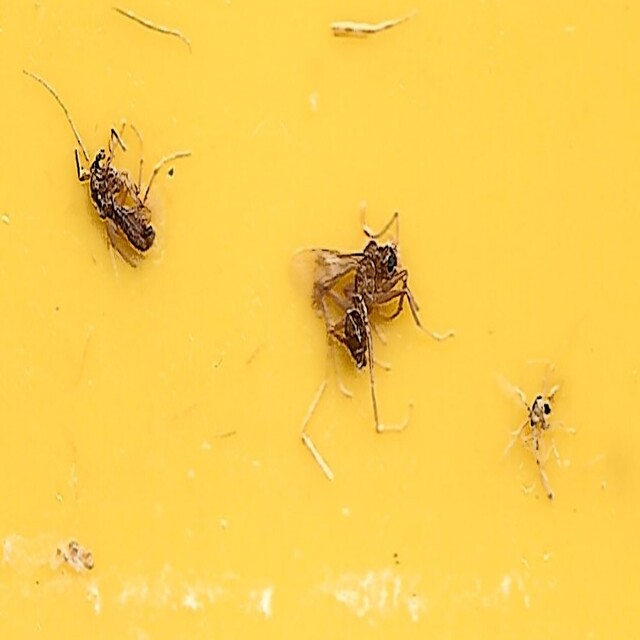Hymenoptera: (287, 204, 445, 471)
Nematocera: (72, 127, 165, 279), (507, 378, 568, 513)
